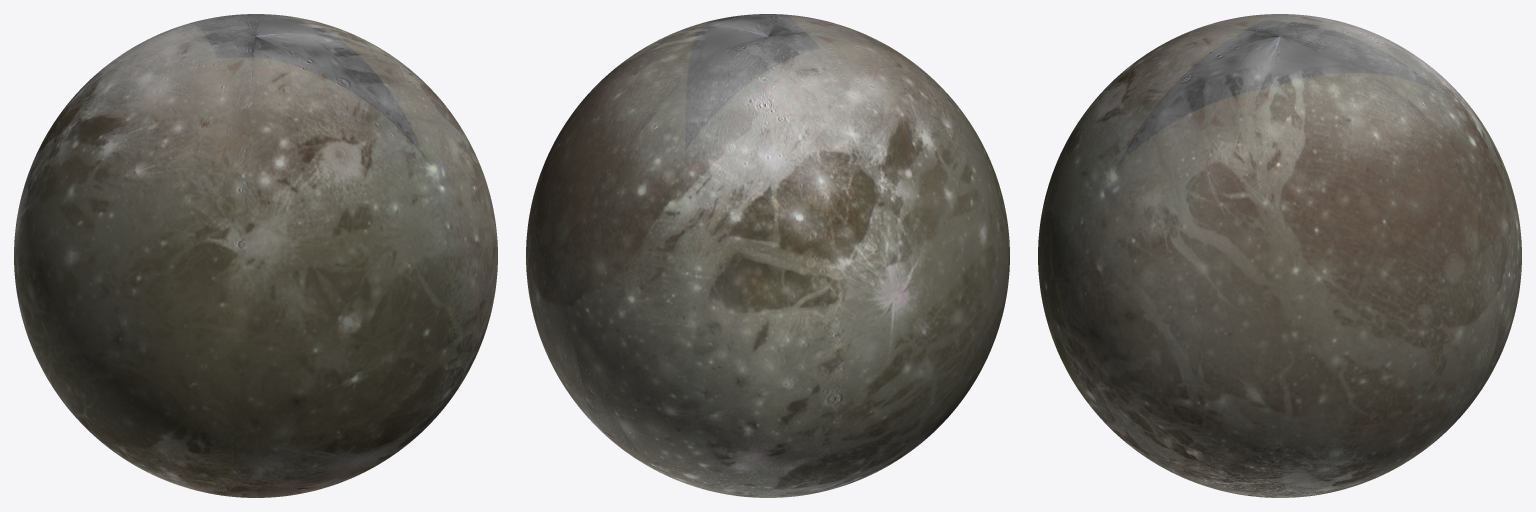
Rendered from ganymede.glb.
The picture shows the model from 3 angles, left to right: view 1: azimuth 30°, elevation 25°; view 2: azimuth 150°, elevation 25°; view 3: azimuth 270°, elevation 25°; orthographic projection.
Visible parts, largest first — view 1: Geode; view 2: Geode; view 3: Geode.
Boxes of the visible parts, <box> form: Geode: <box>14,14,497,497</box>; Geode: <box>526,14,1009,497</box>; Geode: <box>1038,14,1521,497</box>.
Bounding box in the file's own units: 200 × 200 × 200.
1 material, 1 textured.
